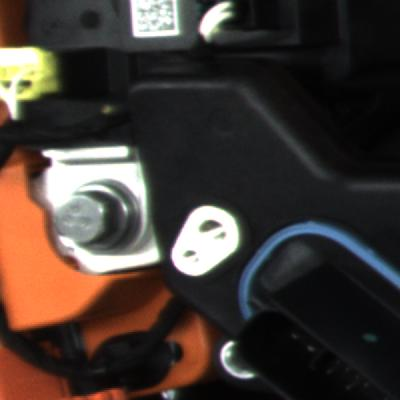nut_b: (47, 177, 154, 256)
